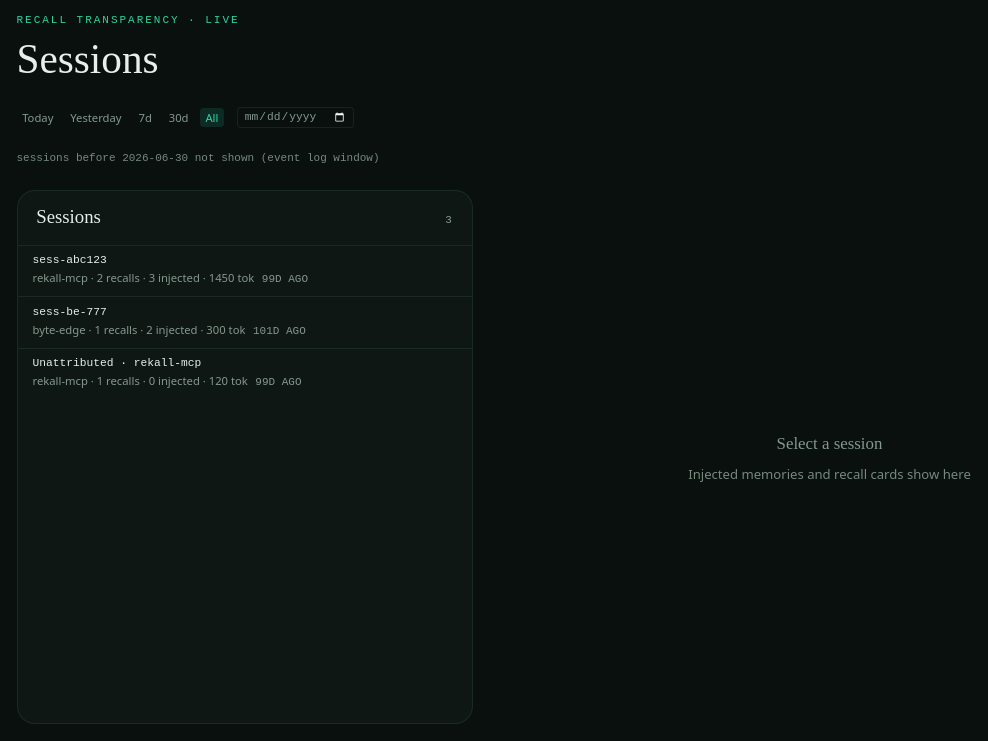
Test: Sessions surface › honest notice shows when the range reaches past event_window.oldest_at
Expected: the text "sess-abc123" is shown, left=32, top=253, right=107, bottom=268
Expected: the text "sessions before 2026-06-30 not shown (event log window)" is shown, left=16, top=152, right=380, bottom=164
// a day inside the window doesn't reach past the tail — notice hides
In the date field named "jump to day": (295, 117) left=237, top=107, right=354, bottom=128, type "2026-07-10"
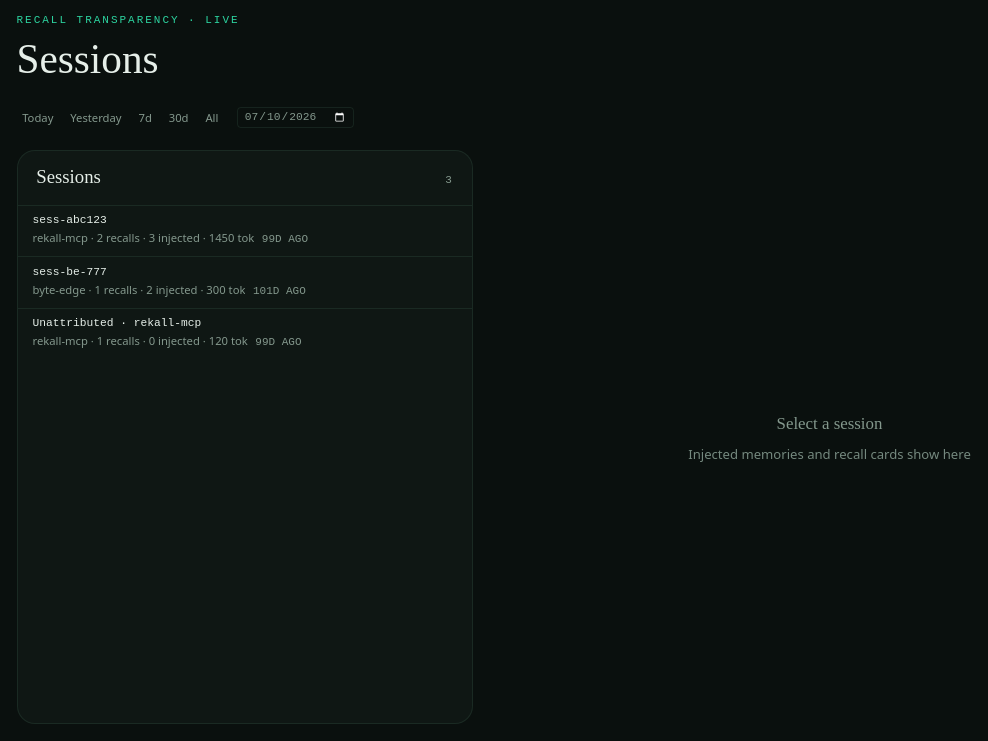
Expected: the text "sessions before 2026-06-30 not shown (event log window)" is gone
